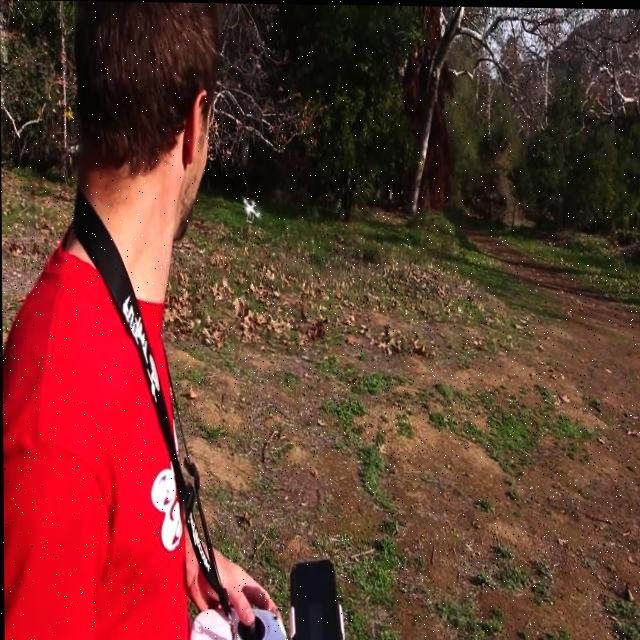drone: (242, 195, 260, 223)
